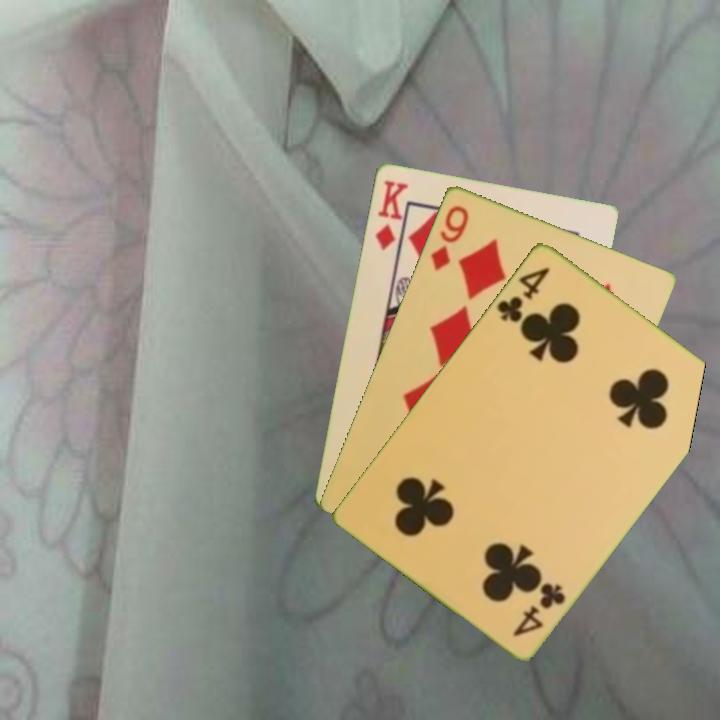4c: (493, 263, 553, 325), (509, 578, 569, 639)
9d: (427, 201, 472, 274)
Kd: (371, 176, 411, 253)
